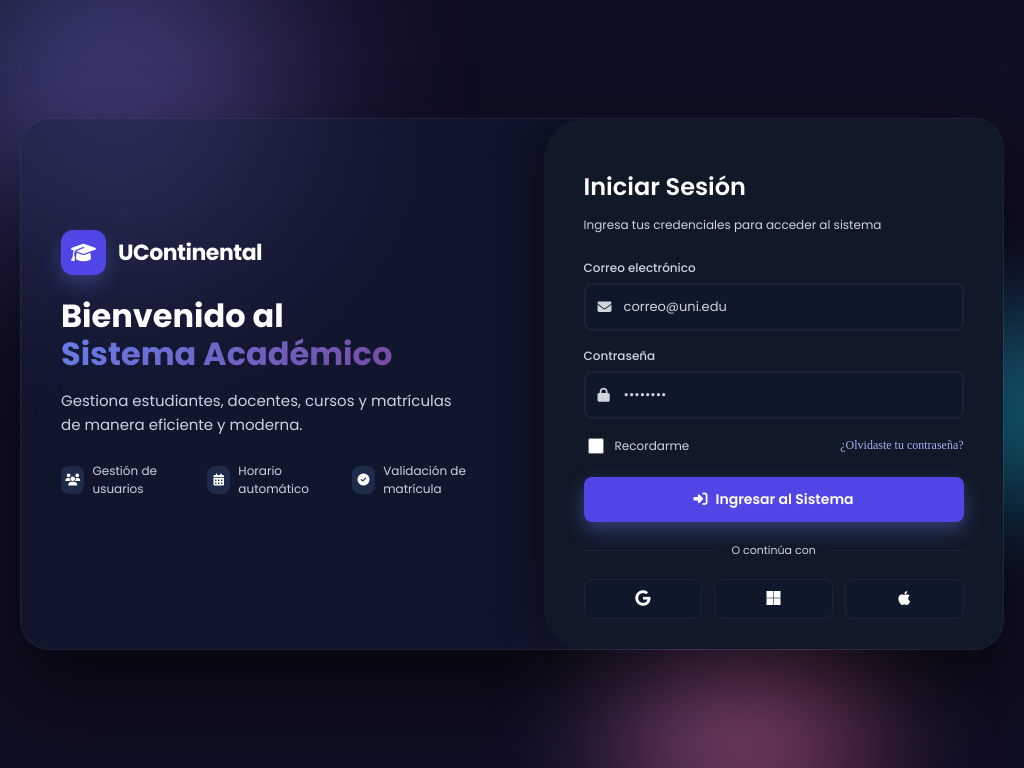
Test case: Navegacion Funcional › NAV-003 | Navegacion a seccion estudiantes
This screenshot has width=1024, height=768.
Type "admin@uni.edu" into the field with test id "email-input".
click(774, 307); type("admin@uni.edu")  # box [584,283,964,331]
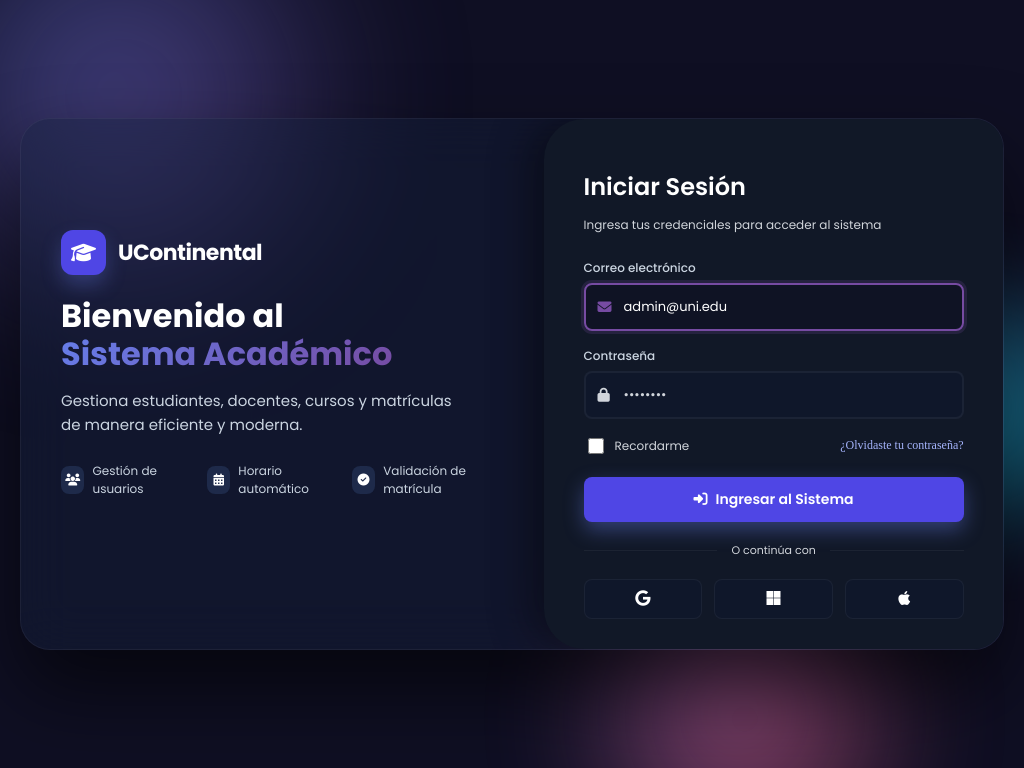
Type "admin123" into the password field with test id "password-input".
click(774, 395); type("admin123")  # box [584,371,964,419]
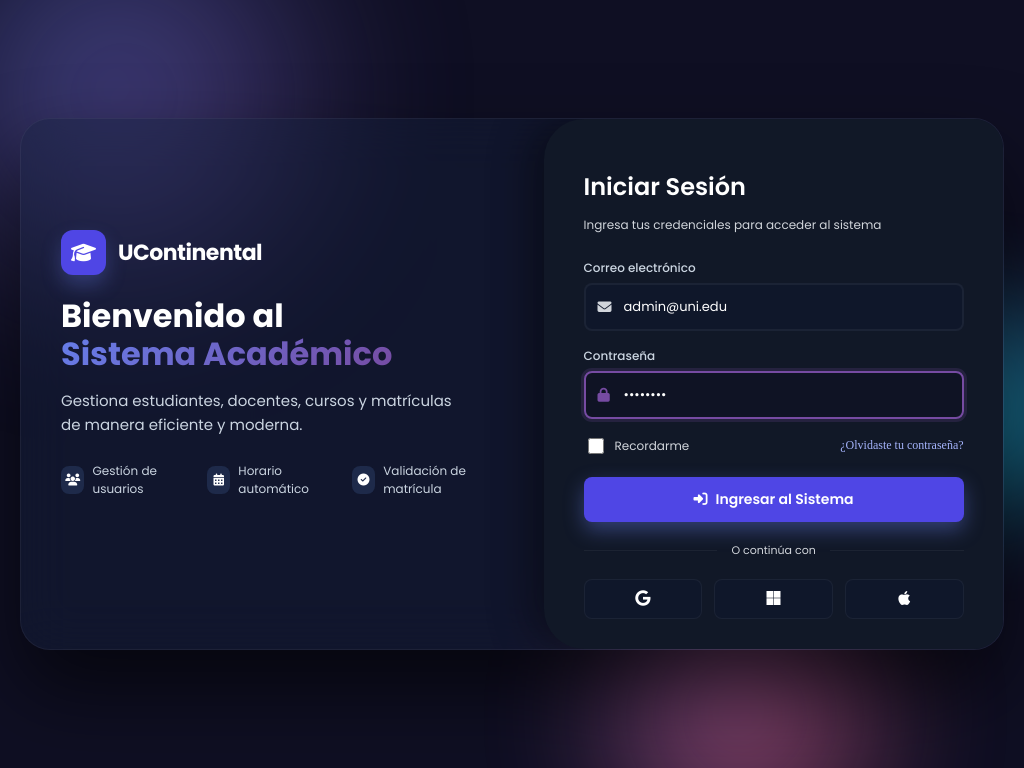
Click the button with test id "btn-login".
click(774, 500)  # box [584,477,964,522]
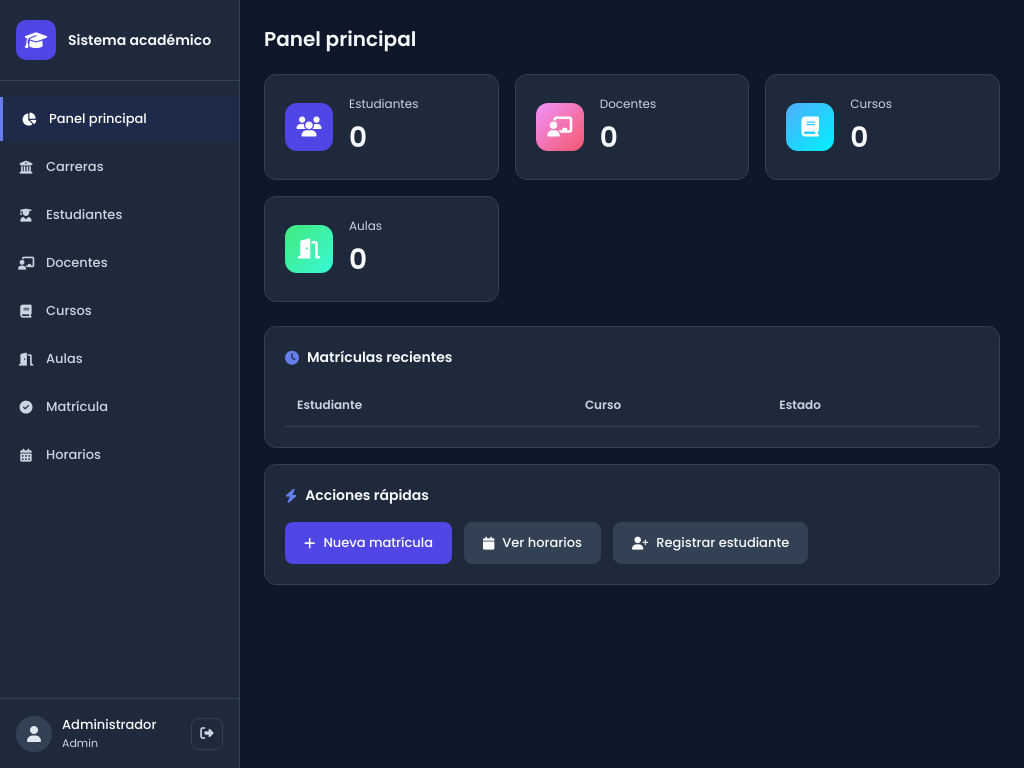
Now the element with test id "dashboard-content" is shown, box [264,24,1000,585]
Click the text "Estudiantes".
click(69, 215)  # box [16,205,122,224]
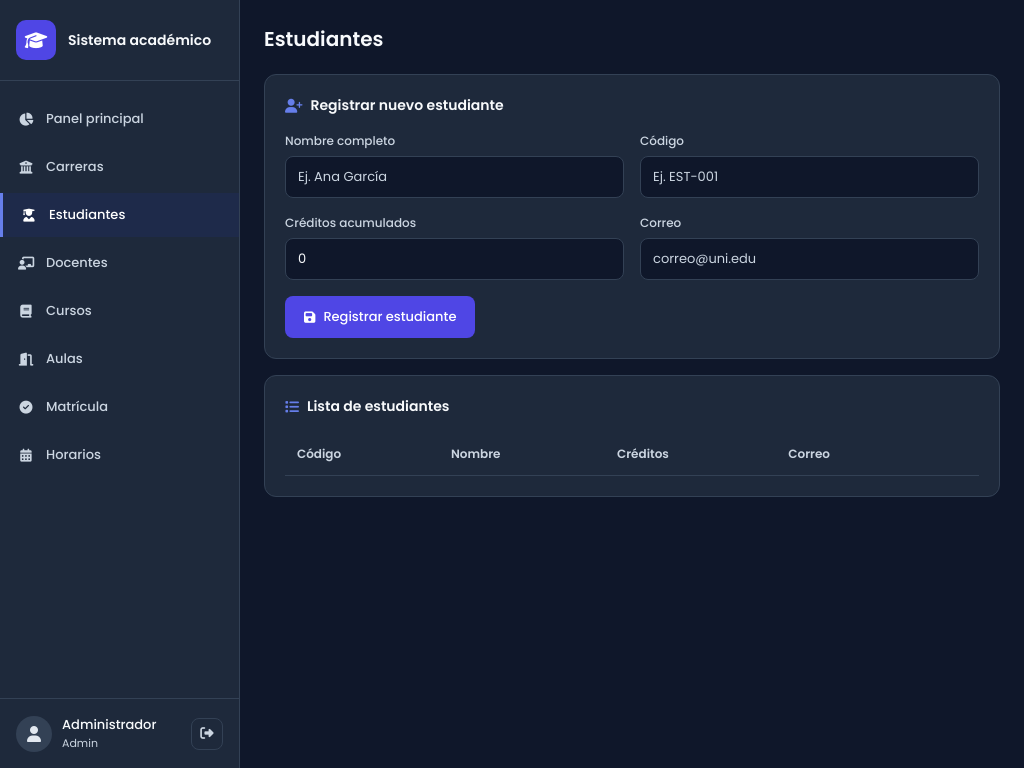
Now the heading "Estudiantes" is shown, box [264,25,383,53]
